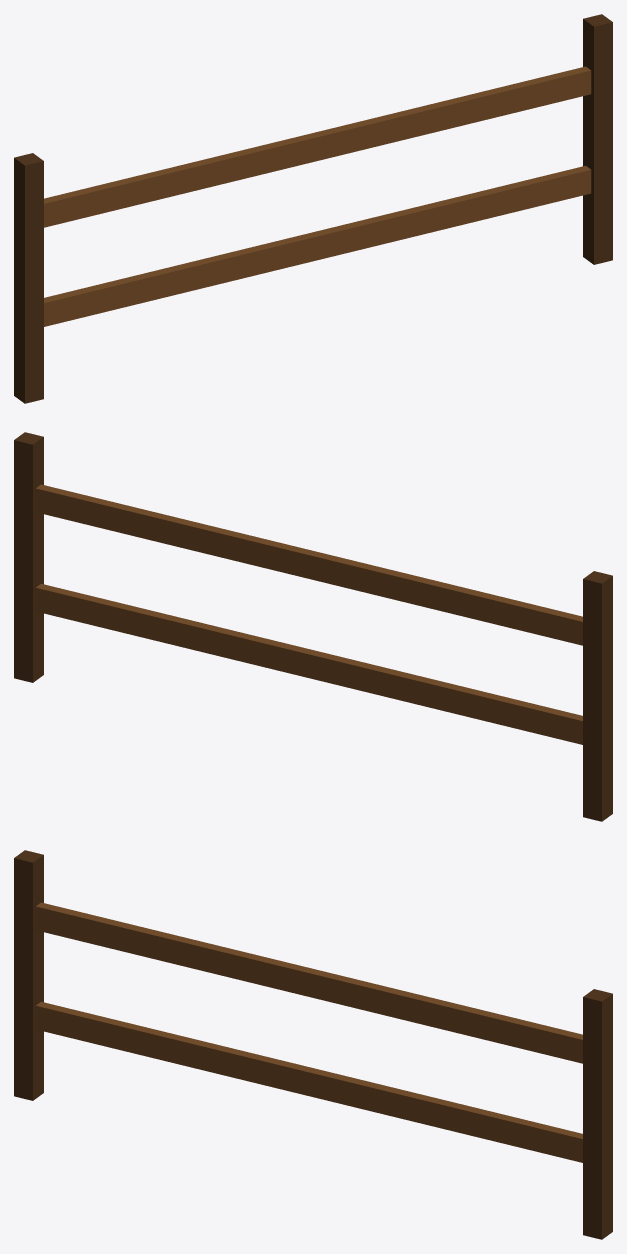
The model's file is fence_3m.glb.
3 renders of one model, top to bottom at view 1: azimuth 30°, elevation 25°; view 2: azimuth 150°, elevation 25°; view 3: azimuth 330°, elevation 25°, orthographic.
Parts seen in each view (by area): view 1: model; view 2: model; view 3: model.
Part boxes in pixels (x1=…): model: x1=14, y1=14, x2=612, y2=403; model: x1=14, y1=432, x2=612, y2=821; model: x1=14, y1=850, x2=612, y2=1239.
Size of the model in its own units: 3.1 by 1.2 by 0.1.
